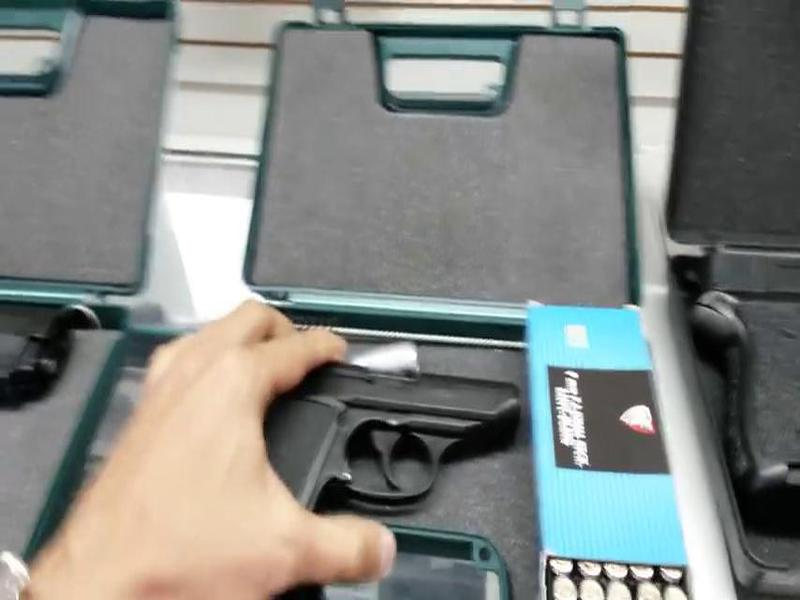Pistola: (220, 349, 545, 578)
